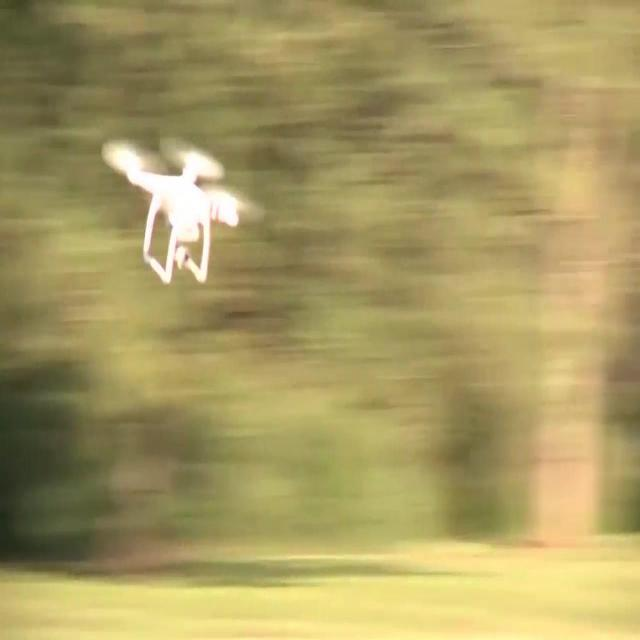UAV: (120, 141, 240, 288)
